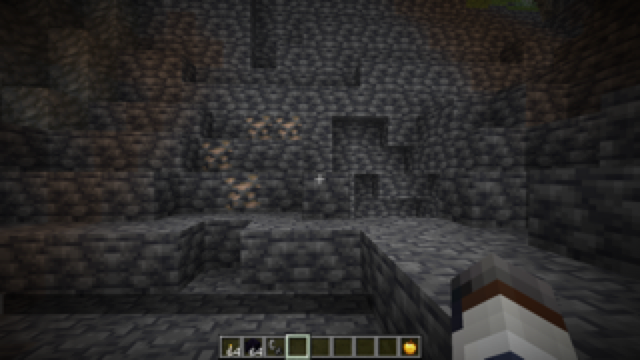iron: (199, 114, 307, 216)
